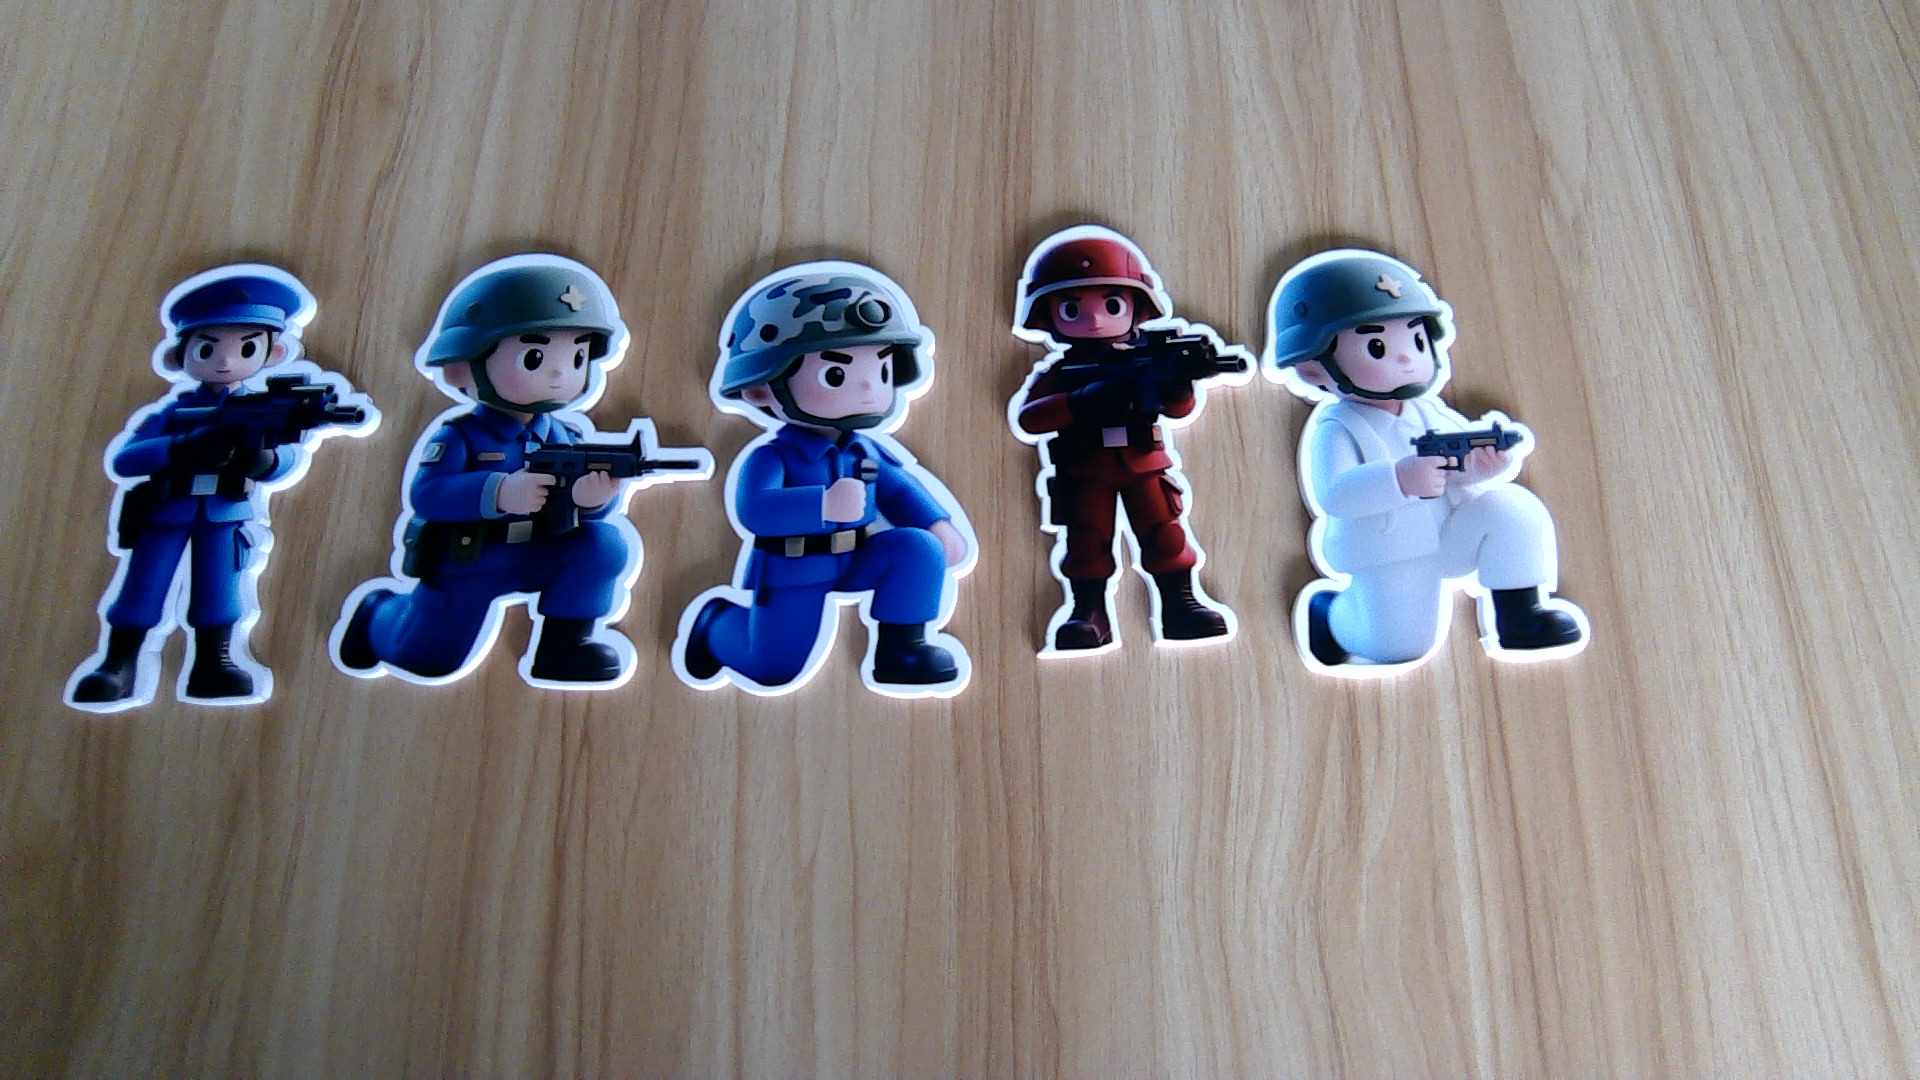人质: (1283, 402, 1592, 678)
敌人1: (1001, 330, 1247, 666)
敌人2: (662, 419, 986, 705), (326, 417, 653, 696), (59, 386, 338, 708)
